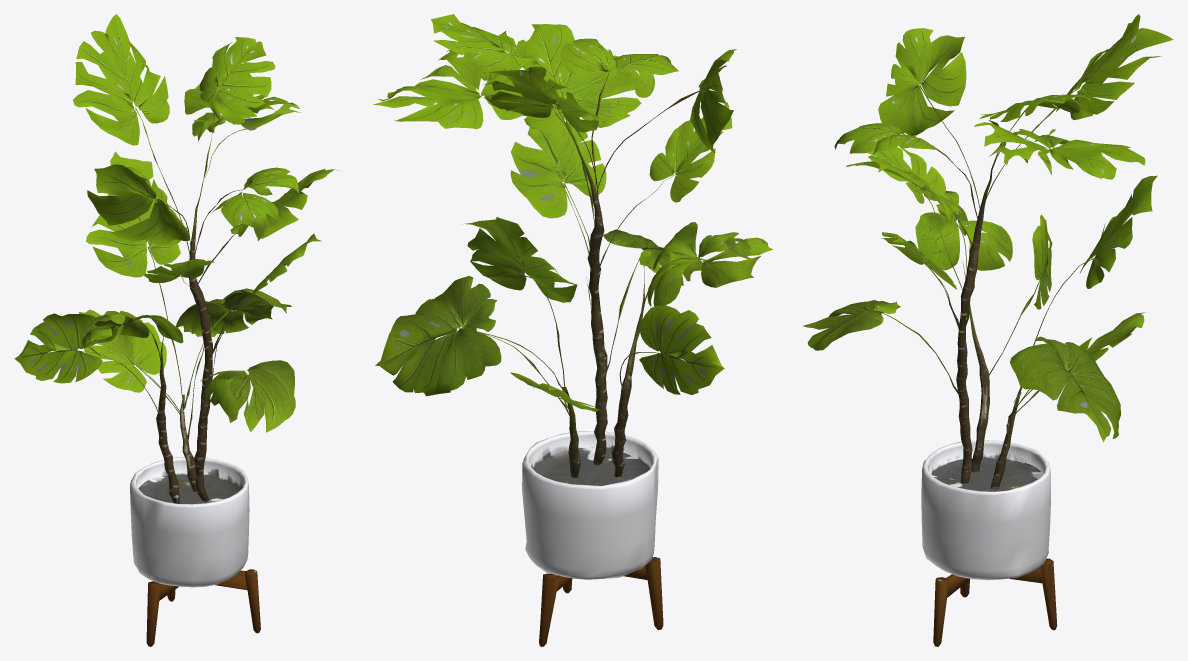
File: plant1.glb
The picture shows the model from 3 angles, left to right: view 1: azimuth 30°, elevation 25°; view 2: azimuth 150°, elevation 25°; view 3: azimuth 270°, elevation 25°; orthographic projection. The views are drawn at different scales.
Size of the model in its own units: 0.5146 by 0.9531 by 0.5401.
1 material, 1 textured.
